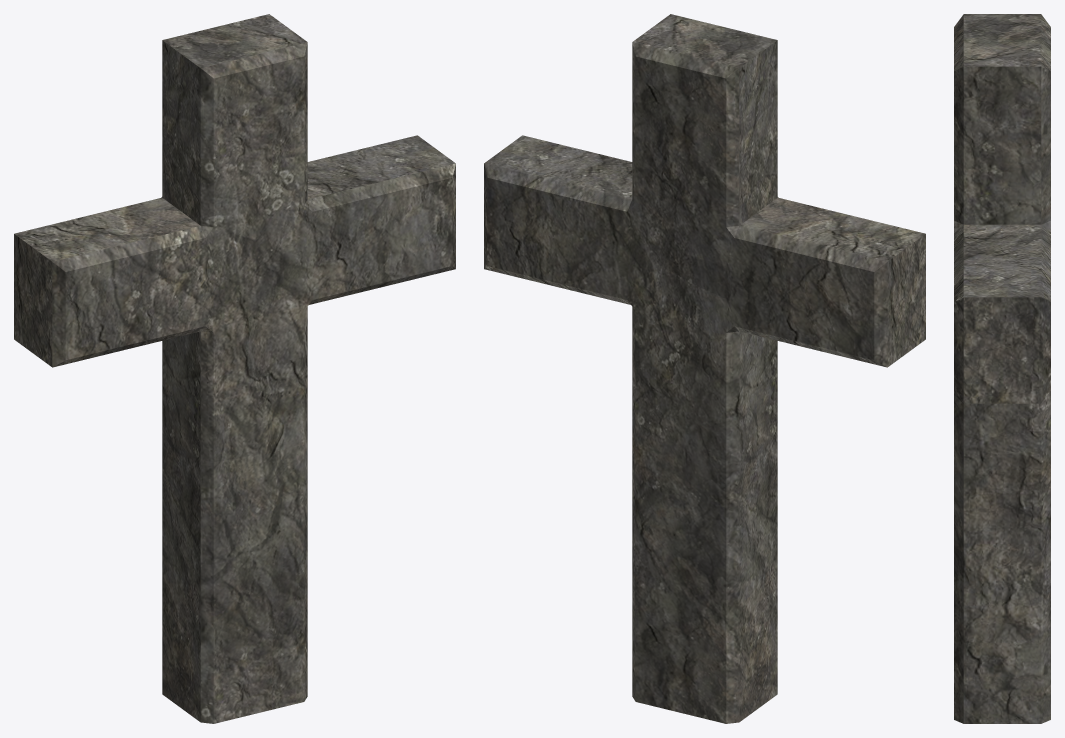
Rendered from asset_gravestones_Stone_07.fbx.
3 renders of one model, left to right at view 1: azimuth 30°, elevation 25°; view 2: azimuth 150°, elevation 25°; view 3: azimuth 270°, elevation 25°, orthographic.
Visible parts, largest first — view 1: pCube1; view 2: pCube1; view 3: pCube1.
Boxes of the visible parts, x1,y1,x2,y2 form: pCube1: (14,14,455,723); pCube1: (484,14,925,723); pCube1: (954,14,1050,723).
Bounding box in the file's own units: 0.6803 × 1.05 × 0.1405.
